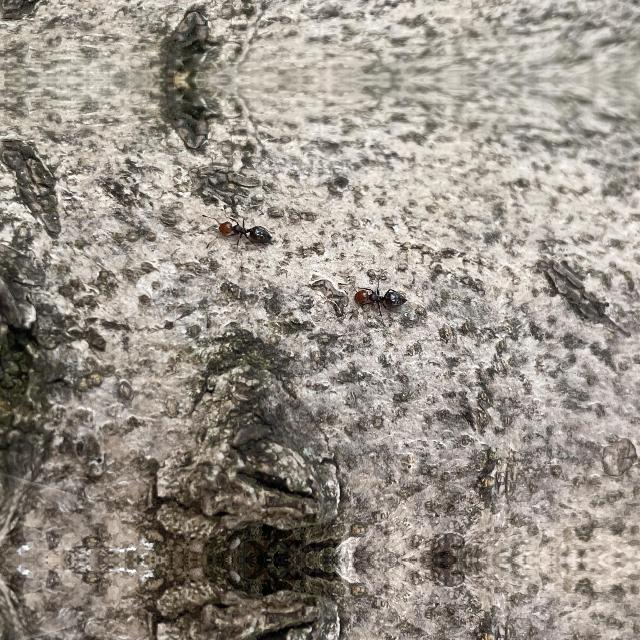Crematogaster: (207, 212, 273, 248), (346, 282, 412, 316)
